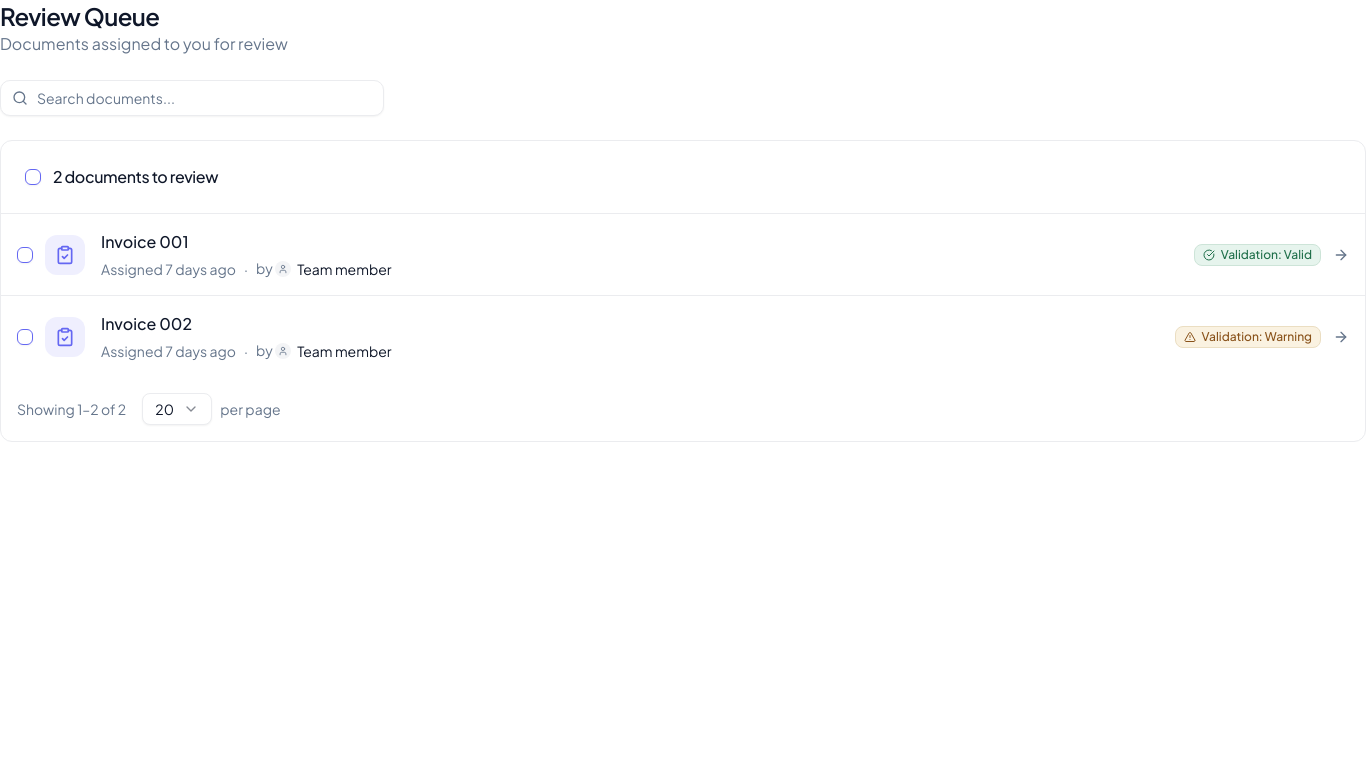
it: ReviewQueuePage › clears selection after successful bulk action
This screenshot has width=1366, height=768.
What coordinates should you click on to do the following:
click the checkbox named "Select all documents"
I would click on:
 (33, 177)
Its box is [25,169,41,185].
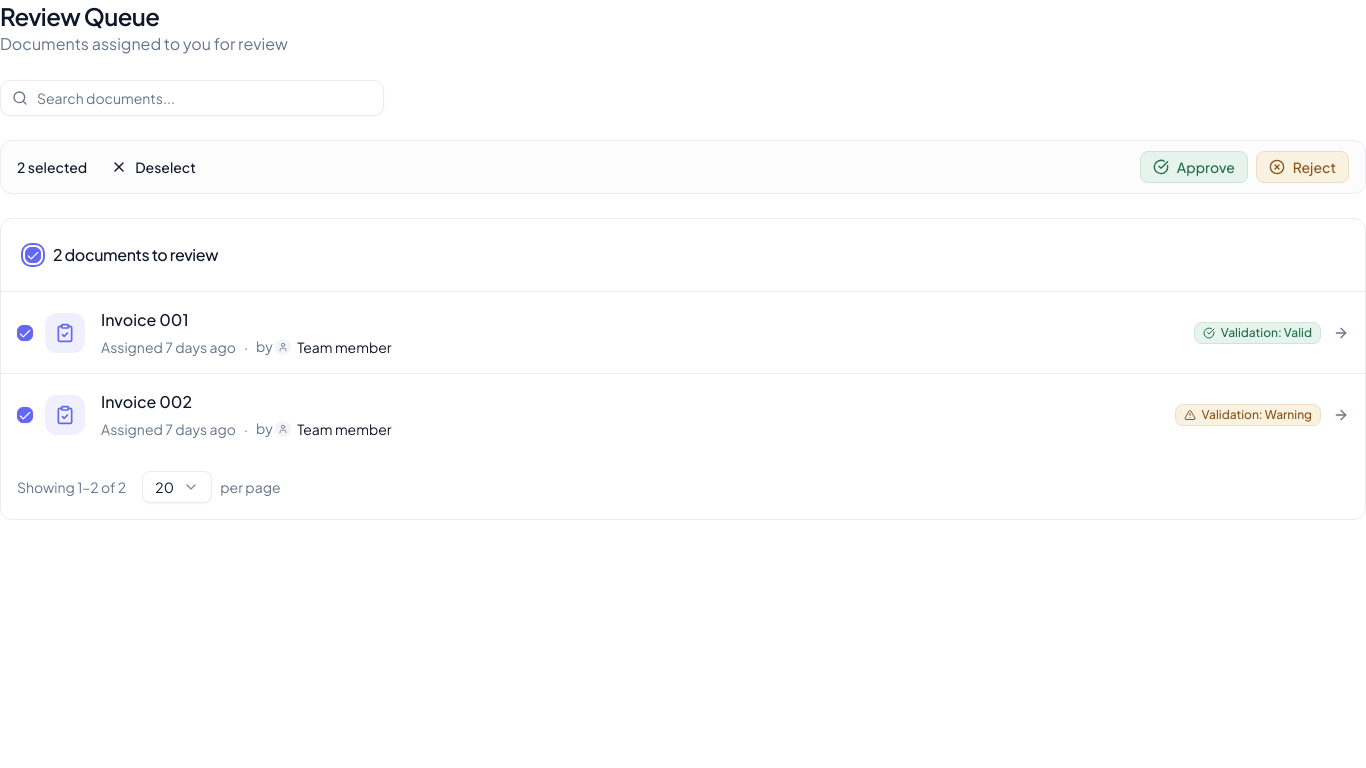
Expected: the text "2 selected" is shown, [17,157,87,177]
What coordinates should you click on to do the following:
click the button "Approve"
I would click on:
 (1194, 167)
Its box is [1140,151,1248,183].
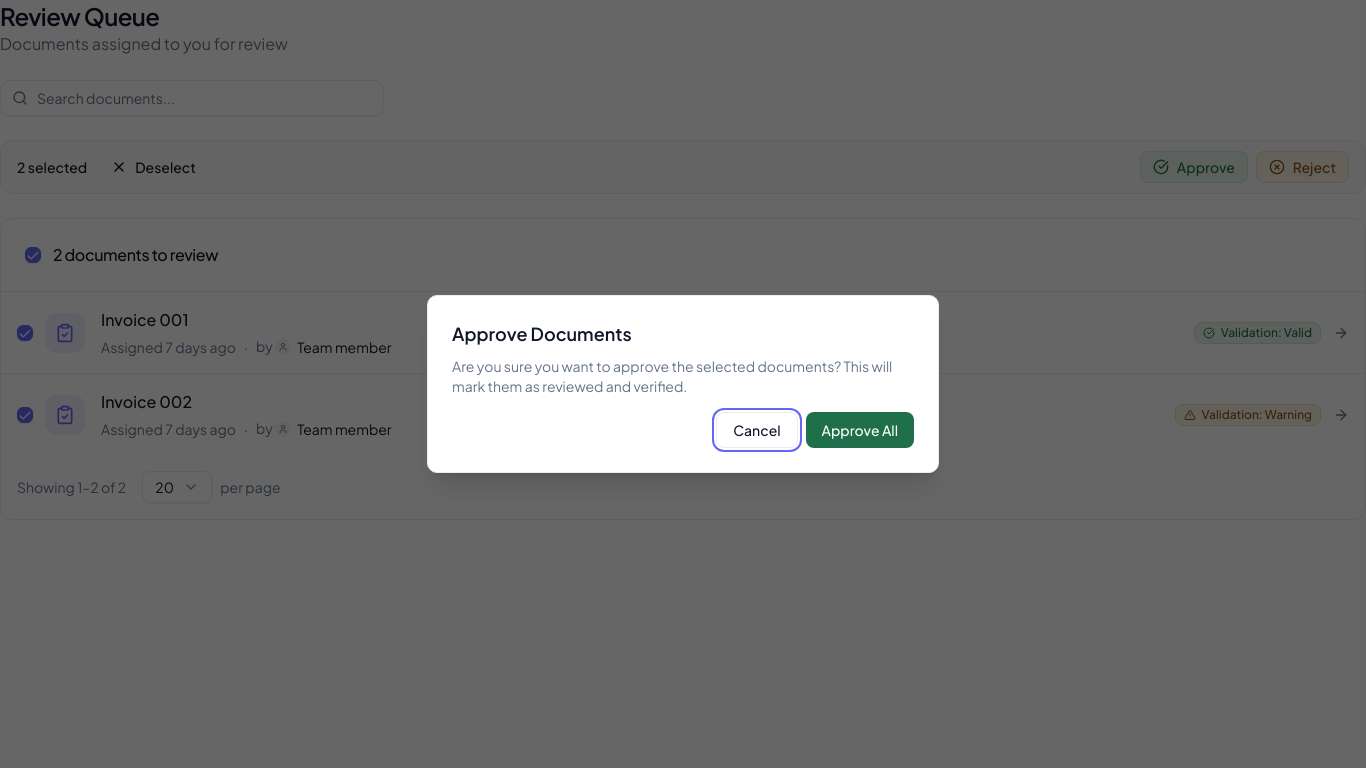
What coordinates should you click on to do the following:
click the button "Approve All"
I would click on:
 (860, 430)
Its box is [806,412,914,448].
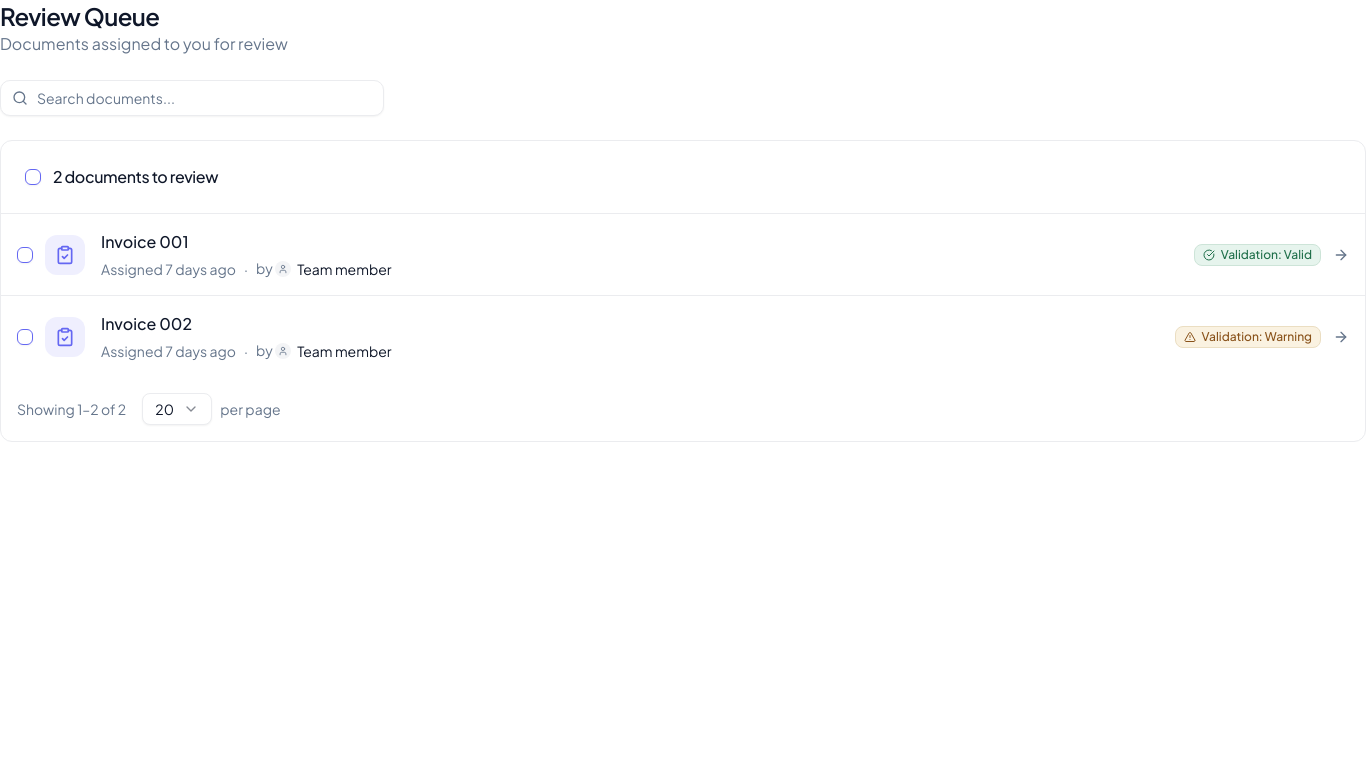
Expected: the text "2 selected" is gone
